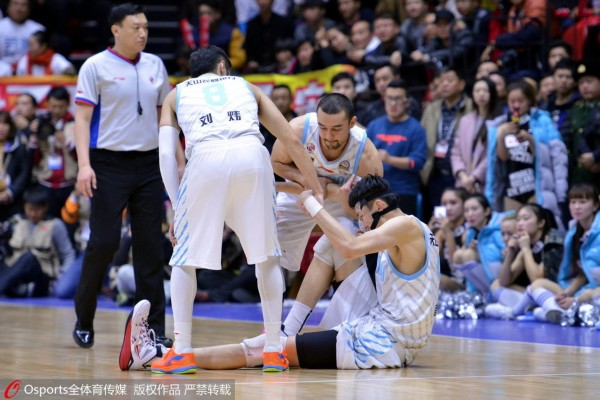10+: (1, 1, 597, 377)
down: (117, 171, 447, 374)
